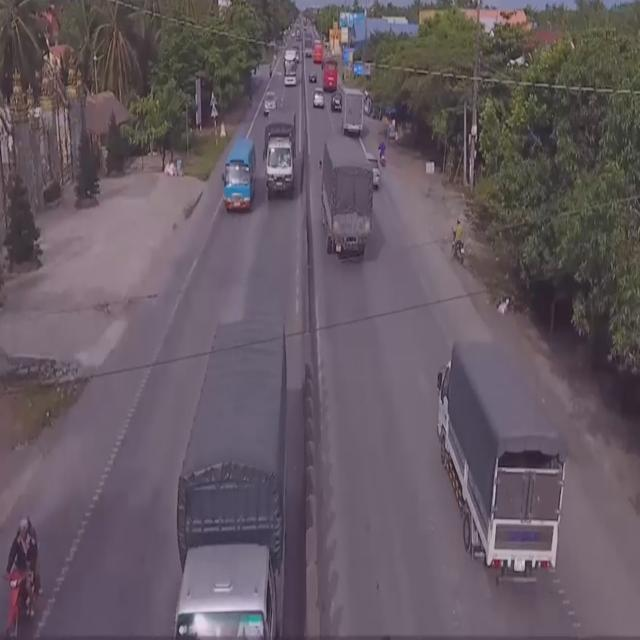bus: (220, 142, 255, 218), (280, 47, 298, 90), (322, 54, 340, 93)
car: (365, 153, 380, 188), (310, 86, 326, 111), (264, 88, 278, 114), (329, 89, 343, 114)
motorbike: (2, 516, 43, 640), (448, 213, 466, 270)
truck: (175, 323, 287, 640), (434, 332, 568, 584), (316, 139, 375, 262), (265, 110, 298, 204), (338, 88, 366, 138)
